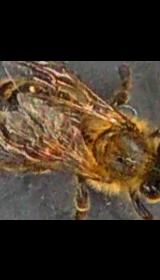varroa_mite: (31, 138, 66, 166)
